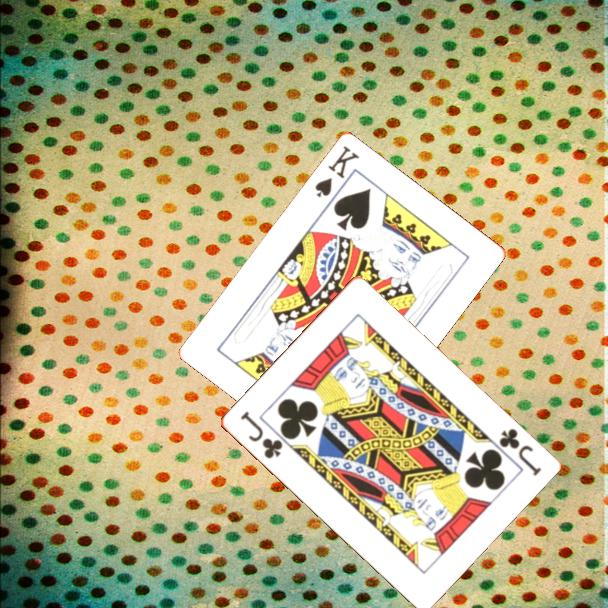c11: (236, 408, 285, 462), (495, 425, 544, 479)
s13: (311, 141, 362, 201)
